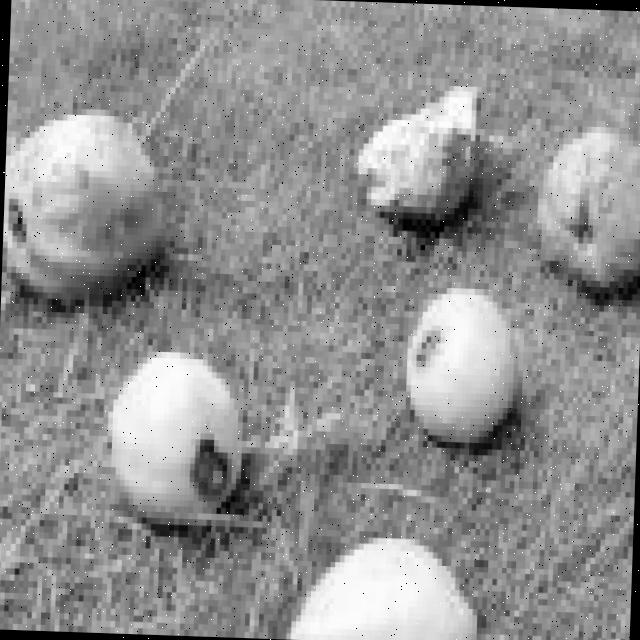Bad_Guava 0 day: (2, 114, 162, 306), (103, 352, 245, 530), (353, 91, 478, 249), (534, 132, 640, 305)
Good_Guava 5-7 days: (401, 287, 523, 455), (281, 539, 481, 640)
